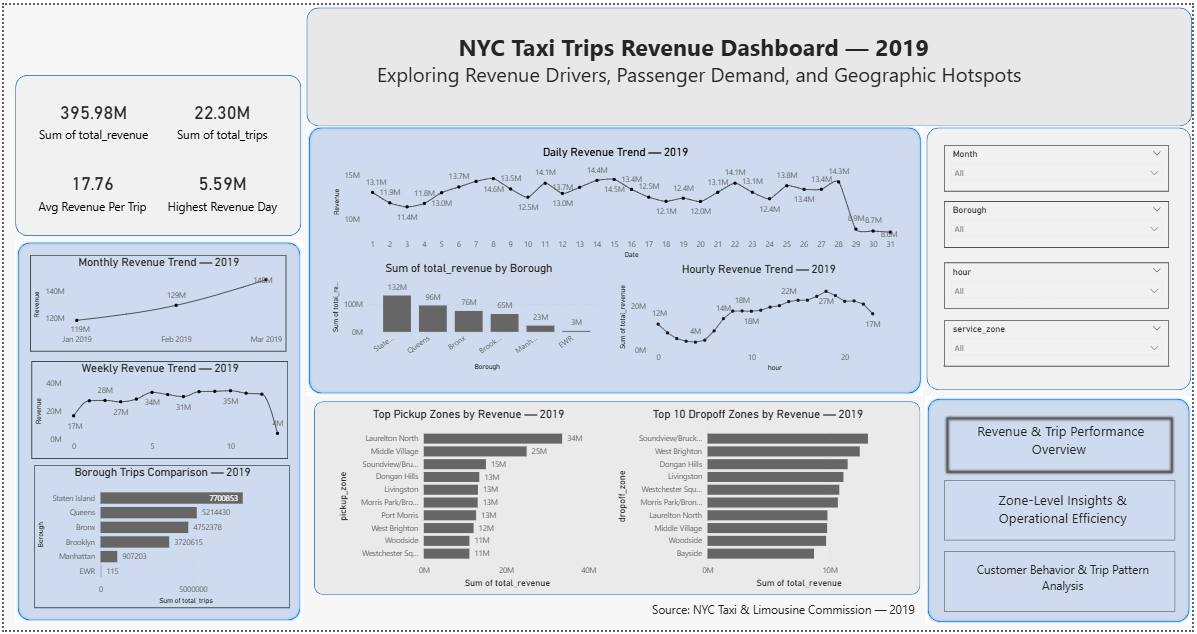

This screenshot's page, from the dashboard's own definition file:
{"tool":"powerbi","page":{"name":"Revenue & Trip Performance Overview","canvas":[1900,1000],"ordinal":0},"visuals":[{"type":"shape","box":[1473.3,625,426.7,365],"z":0},{"type":"actionButton","box":[1503.3,760,370,96.7],"z":1000},{"type":"textbox","box":[1543.3,885,300,75],"z":2000},{"type":"textbox","box":[1543.3,771.7,300,75],"z":3000},{"type":"actionButton","box":[1503.3,873.3,370,96.7],"z":4000},{"type":"actionButton","box":[1503.3,655,370,96.7],"z":5000},{"type":"textbox","box":[1538.3,661.7,300,90],"z":6000},{"type":"shape","box":[1476.7,196.7,423.3,420],"z":7000},{"type":"shape","box":[17.5,111.2,457.5,257.5],"z":8000},{"type":"card","fields":{"Values":["Sum(daily_revenue.total_revenue)"]},"box":[40,126.7,206.7,113.3],"z":9000},{"type":"card","fields":{"Values":["Sum(daily_trips.total_trips)"]},"box":[246.7,126.7,206.7,113.3],"z":10000},{"type":"shape","box":[483.3,192.5,986.7,433.3],"z":11000},{"type":"card","fields":{"Values":["DROPOFF_ZONE_SUMMARY_1.Avg Revenue Per Trip"]},"box":[40,240,203.3,113.3],"z":12000},{"type":"shape","box":[17.5,375,460,612.5],"z":13000},{"type":"card","fields":{"Values":["borough_summary.Highest Revenue Day"]},"box":[246.7,240,206.7,113.3],"z":14000},{"type":"shape","box":[496.7,633.3,970,310],"z":15000},{"type":"lineChart","title":"Daily Revenue Trend — 2019","fields":{"Category":["Date.Date.Variation.Date Hierarchy.Day"],"Y":["Sum(daily_revenue.total_revenue)"]},"box":[521.9,223,912.5,187.5],"z":16000},{"type":"lineChart","title":"Monthly Revenue Trend — 2019","fields":{"Y":["Sum(daily_revenue.total_revenue)"],"Category":["Date.Date.Variation.Date Hierarchy.Year","Date.Date.Variation.Date Hierarchy.Month"]},"box":[41.4,400.6,409.4,154.6],"z":17000},{"type":"lineChart","title":"Weekly Revenue Trend — 2019","fields":{"Category":["Week.Week_Number"],"Y":["Sum(weekly_revenue.total_revenue)"]},"box":[44,570,410,156],"z":18000},{"type":"lineChart","title":"Hourly Revenue Trend — 2019","fields":{"Y":["Sum(hourly_revenue_fixed.total_revenue)"],"Category":["hourly_revenue_fixed.hour"]},"box":[980.6,411.8,455,180],"z":19000},{"type":"clusteredColumnChart","fields":{"Category":["dropoff_revenue_summary1.Borough"],"Y":["Sum(DROPOFF_ZONE_SUMMARY_1.total_revenue)"]},"box":[519.4,410.5,447.5,180],"z":20000},{"type":"clusteredBarChart","title":"Top Pickup Zones by Revenue — 2019","fields":{"Category":["pickup_zone_summary.pickup_zone"],"Y":["Sum(pickup_zone_summary.total_revenue)"]},"box":[529,643.3,426.7,293.3],"z":21000},{"type":"textbox","box":[540,36.7,1147.5,85],"z":22000,"group":"g1"},{"type":"clusteredBarChart","title":"Borough Trips Comparison — 2019","fields":{"Category":["borough_summary.Borough"],"Y":["Sum(borough_summary.total_trips)"]},"box":[47,736.4,409.4,229.2],"z":22000},{"type":"clusteredBarChart","title":"Top 10 Dropoff Zones by Revenue — 2019","fields":{"Category":["DROPOFF_ZONE_SUMMARY_1.dropoff_zone"],"Y":["Sum(DROPOFF_ZONE_SUMMARY_1.total_revenue)"]},"box":[975.7,643.3,460,293.3],"z":23000},{"type":"slicer","fields":{"Values":["Date.Date.Variation.Date Hierarchy.Month"]},"box":[1503.3,223.3,360,74],"z":24000},{"type":"slicer","fields":{"Values":["taxi_zones.Borough"]},"box":[1503.3,313.3,360,74],"z":25000},{"type":"slicer","fields":{"Values":["hourly_revenue_fixed.hour"]},"box":[1503.3,411.7,360,74],"z":26000},{"type":"slicer","fields":{"Values":["taxi_zones.service_zone"]},"box":[1503.3,503.3,360,74],"z":27000},{"type":"shape","box":[483.3,3.3,1416.7,190],"z":28000},{"type":"textbox","box":[777.5,950,937.5,50],"z":29000},{"type":"group","id":"g1","title":"Group 1","box":[540,36.7,1147.5,137.8],"z":30000},{"type":"textbox","box":[573.3,84.5,1076.7,90],"z":30001,"group":"g1"}]}

Visuals, with their boxes in screenshot pixels (x1, y1, x2, y2), scaled from the page's 1900x1000 canvas onto the 1197x634 screenshot:
shape: Rect(928, 396, 1196, 628)
actionButton: Rect(947, 482, 1180, 543)
textbox: Rect(972, 561, 1161, 609)
textbox: Rect(972, 489, 1161, 537)
actionButton: Rect(947, 554, 1180, 615)
actionButton: Rect(947, 415, 1180, 477)
textbox: Rect(969, 420, 1158, 477)
shape: Rect(930, 125, 1196, 391)
shape: Rect(11, 71, 299, 234)
card - Sum(daily_revenue.total_revenue): Rect(25, 80, 155, 152)
card - Sum(daily_trips.total_trips): Rect(155, 80, 286, 152)
shape: Rect(304, 122, 926, 397)
card - DROPOFF_ZONE_SUMMARY_1.Avg Revenue Per Trip: Rect(25, 152, 153, 224)
shape: Rect(11, 238, 301, 626)
card - borough_summary.Highest Revenue Day: Rect(155, 152, 286, 224)
shape: Rect(313, 402, 924, 598)
"Daily Revenue Trend — 2019" lineChart: Rect(329, 141, 904, 260)
"Monthly Revenue Trend — 2019" lineChart: Rect(26, 254, 284, 352)
"Weekly Revenue Trend — 2019" lineChart: Rect(28, 361, 286, 460)
"Hourly Revenue Trend — 2019" lineChart: Rect(618, 261, 904, 375)
clusteredColumnChart - dropoff_revenue_summary1.Borough x Sum(DROPOFF_ZONE_SUMMARY_1.total_revenue): Rect(327, 260, 609, 374)
"Top Pickup Zones by Revenue — 2019" clusteredBarChart: Rect(333, 408, 602, 594)
textbox: Rect(340, 23, 1063, 77)
"Borough Trips Comparison — 2019" clusteredBarChart: Rect(30, 467, 288, 612)
"Top 10 Dropoff Zones by Revenue — 2019" clusteredBarChart: Rect(615, 408, 904, 594)
slicer - Date.Date.Variation.Date Hierarchy.Month: Rect(947, 142, 1174, 188)
slicer - taxi_zones.Borough: Rect(947, 199, 1174, 246)
slicer - hourly_revenue_fixed.hour: Rect(947, 261, 1174, 308)
slicer - taxi_zones.service_zone: Rect(947, 319, 1174, 366)
shape: Rect(304, 2, 1196, 123)
textbox: Rect(490, 602, 1080, 633)
"Group 1" group: Rect(340, 23, 1063, 111)
textbox: Rect(361, 54, 1040, 111)
